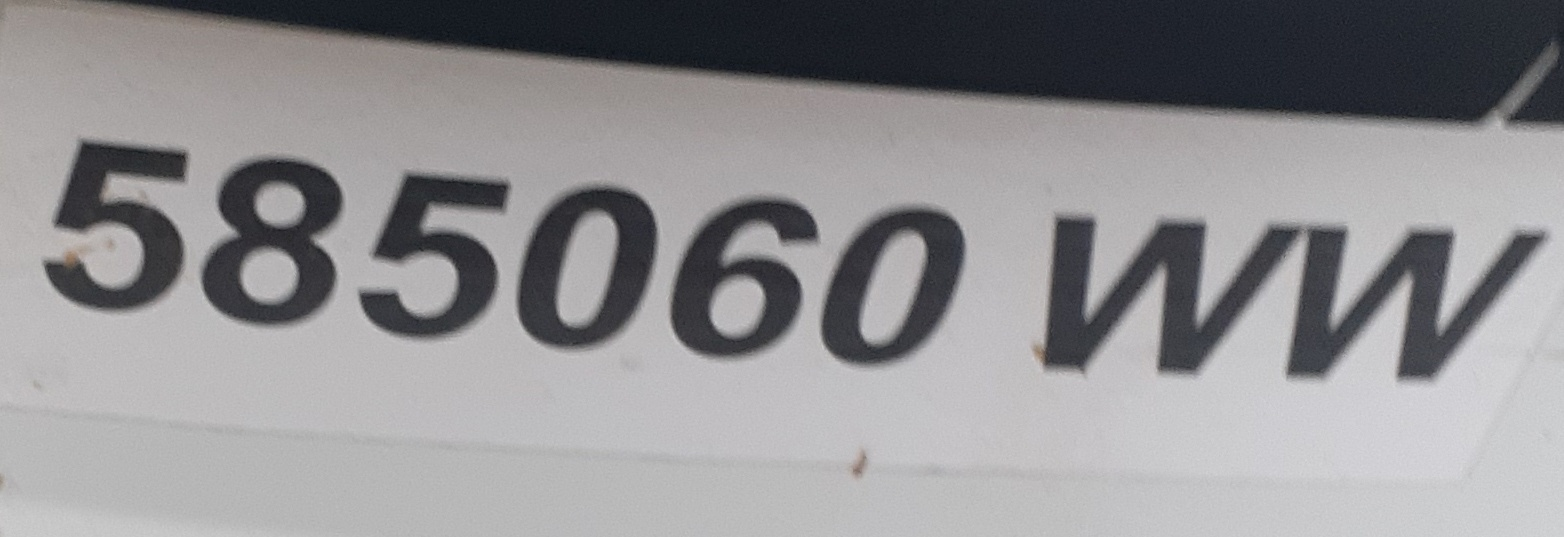0: (515, 185, 662, 356), (824, 205, 972, 371)
5: (37, 135, 199, 317), (354, 172, 516, 347)
6: (662, 194, 823, 369)
8: (205, 151, 350, 330)
w: (1042, 205, 1298, 399), (1286, 221, 1558, 400)
